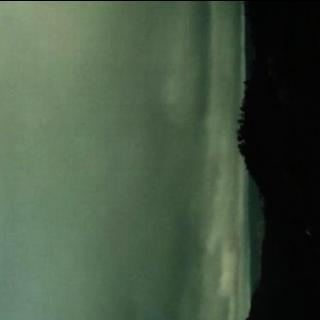Stratocumulus: (0, 0, 251, 320)
